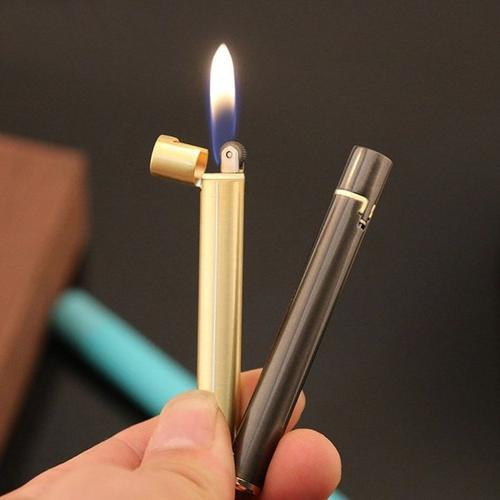Fire: (199, 40, 244, 165)
